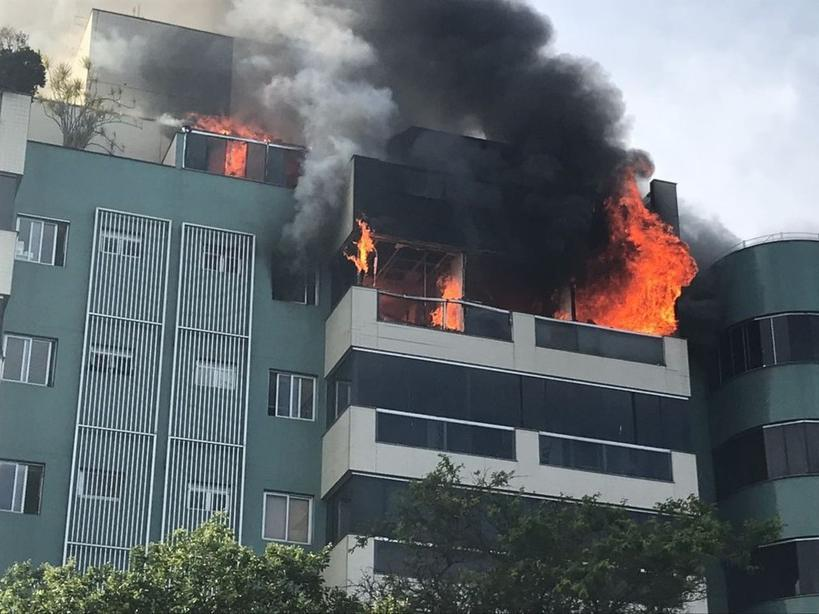Fire: (574, 198, 709, 331), (197, 124, 263, 175), (341, 222, 377, 273), (430, 277, 459, 324)
